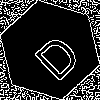D: (25, 25, 84, 84)
